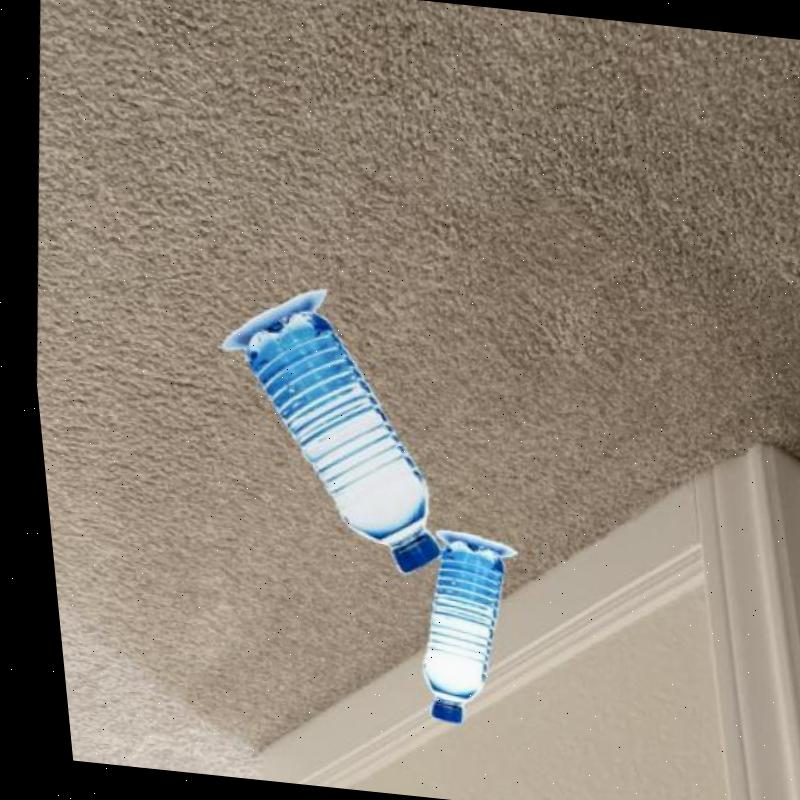botella: (211, 304, 457, 578), (393, 538, 509, 728)
